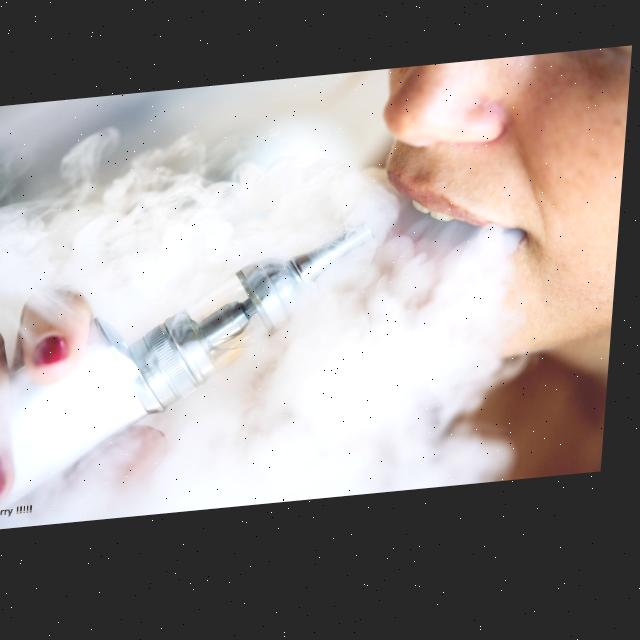vape: (0, 229, 380, 533)
